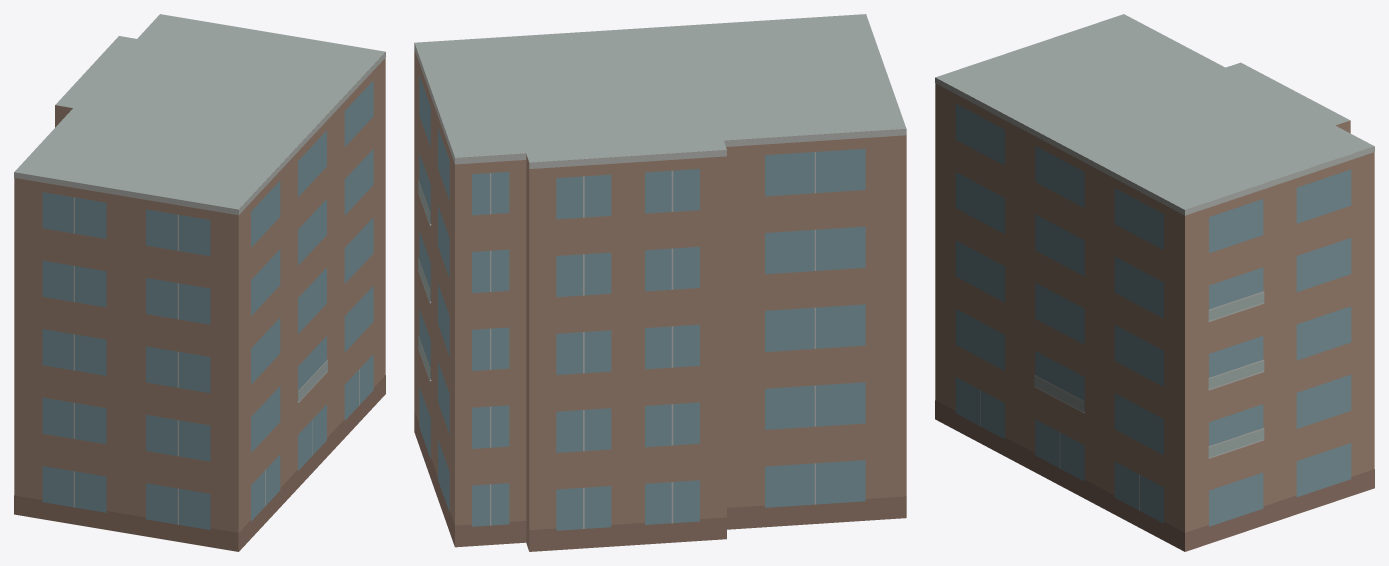
File: survey-upis-33013828.glb
3 renders of one model, left to right at view 1: azimuth 30°, elevation 25°; view 2: azimuth 150°, elevation 25°; view 3: azimuth 270°, elevation 25°, orthographic. The views are drawn at different scales.
Visible parts, largest first — view 1: survey-upis-33013828.tmp; view 2: survey-upis-33013828.tmp; view 3: survey-upis-33013828.tmp.
Boxes of the visible parts, box(x1,y1,x2,y2) form: survey-upis-33013828.tmp: box(14, 14, 385, 551); survey-upis-33013828.tmp: box(414, 14, 906, 551); survey-upis-33013828.tmp: box(935, 14, 1374, 551).
Size of the model in its own units: 18 by 14.63 by 17.06.
